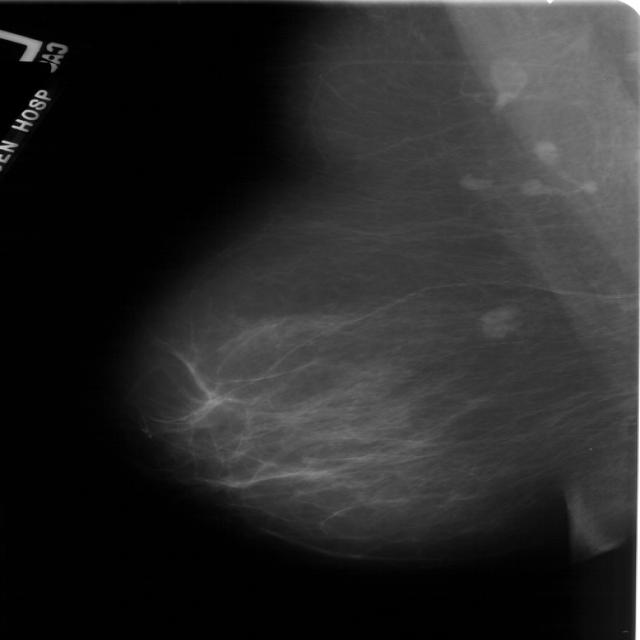tumour: (477, 303, 520, 338)
